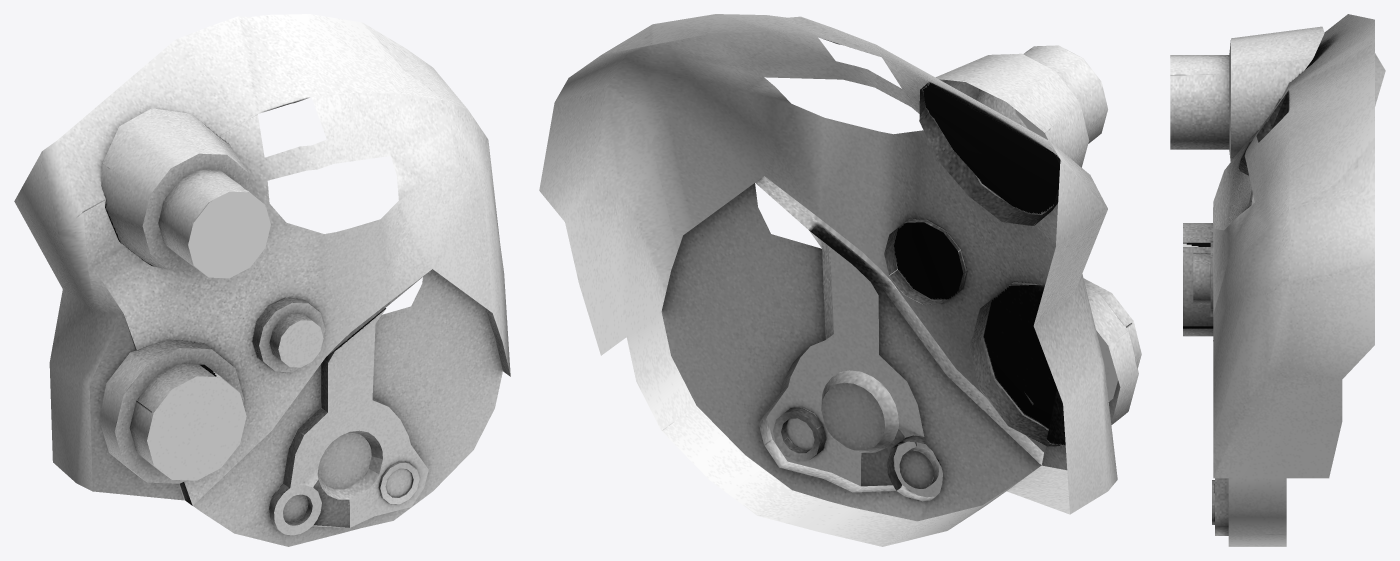
File: Great Akaku.fbx
3 views of the same model, side by side, from view 1: azimuth 30°, elevation 25°; view 2: azimuth 150°, elevation 25°; view 3: azimuth 270°, elevation 25° (orthographic). The views are drawn at different scales.
Parts seen in each view (by area): view 1: Cube; view 2: Cube; view 3: Cube.
Part boxes in pixels (left/top/right/bottom): Cube: left=14, top=14, right=510, bottom=546; Cube: left=539, top=14, right=1141, bottom=546; Cube: left=1170, top=14, right=1385, bottom=546.
Bounding box in the file's own units: 8.41 × 8.65 × 3.62.
